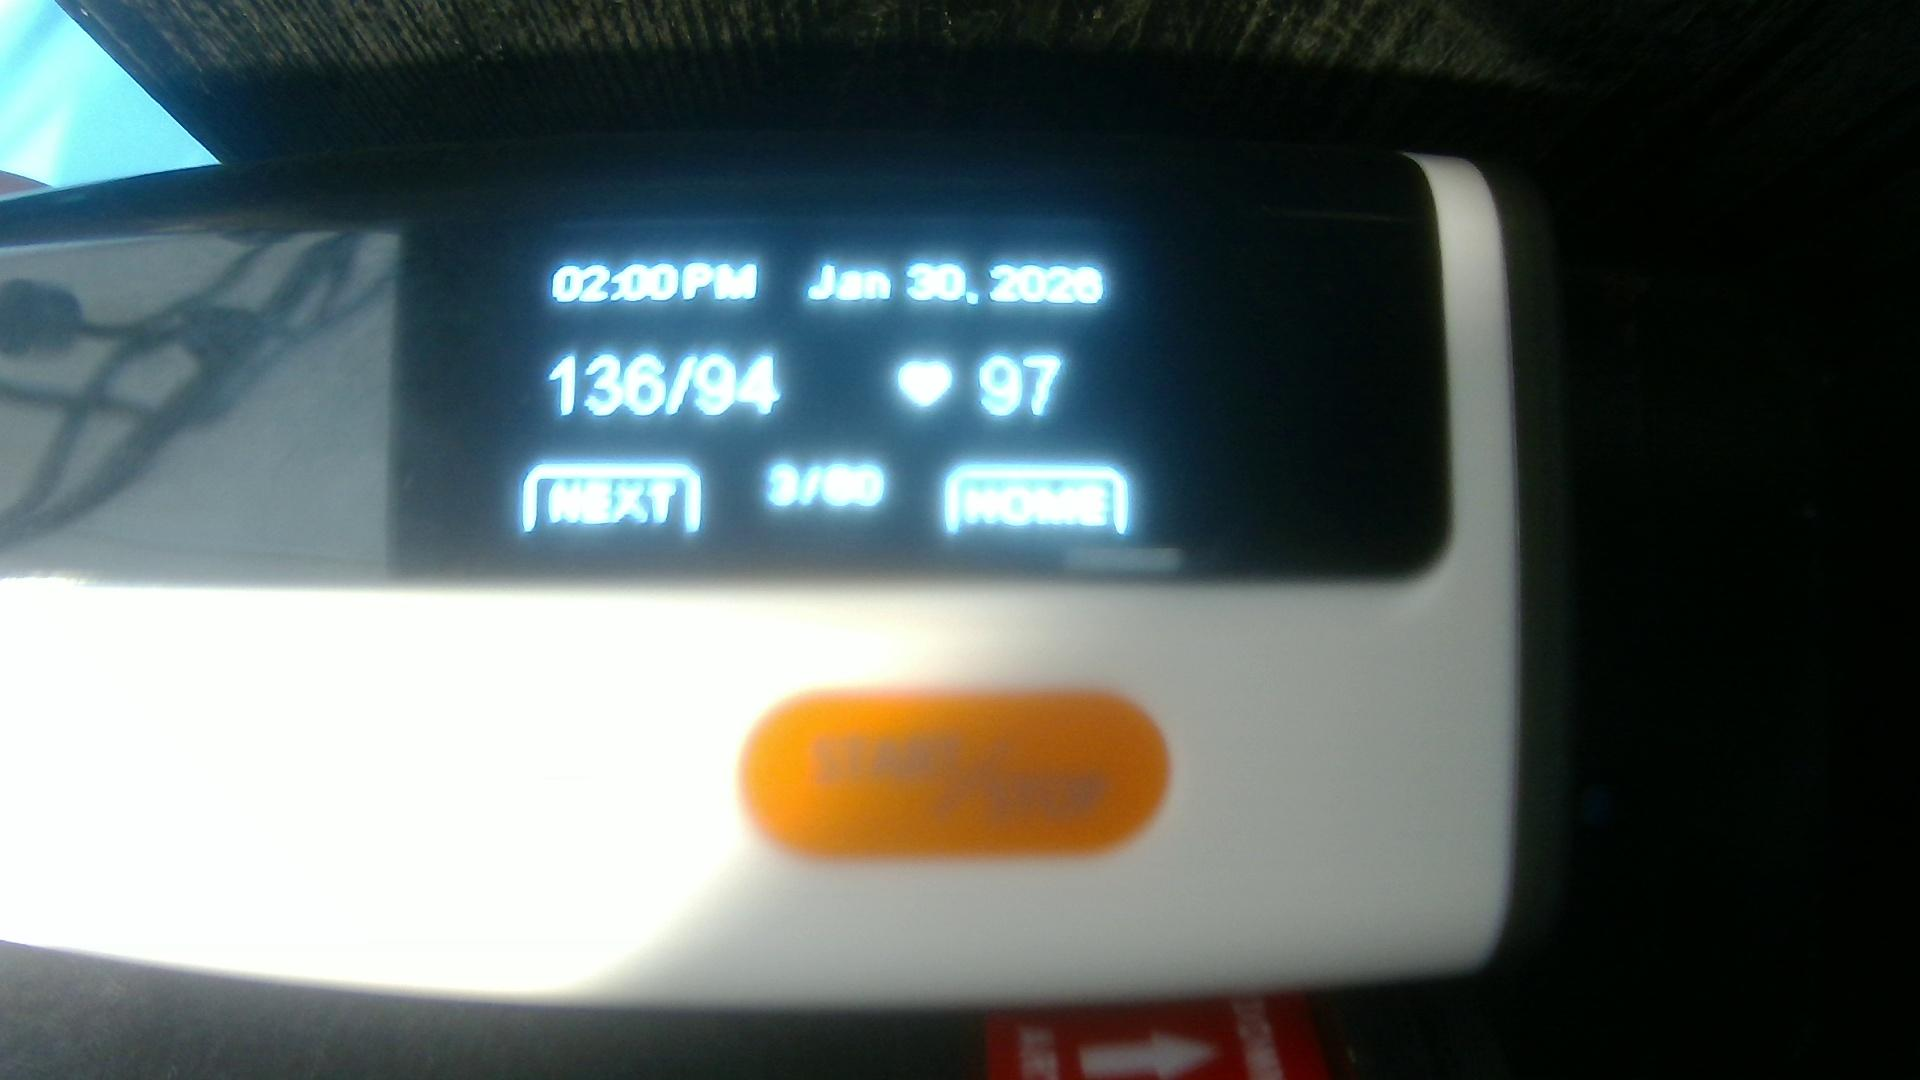DISPLAY: (16, 156, 1420, 579)
